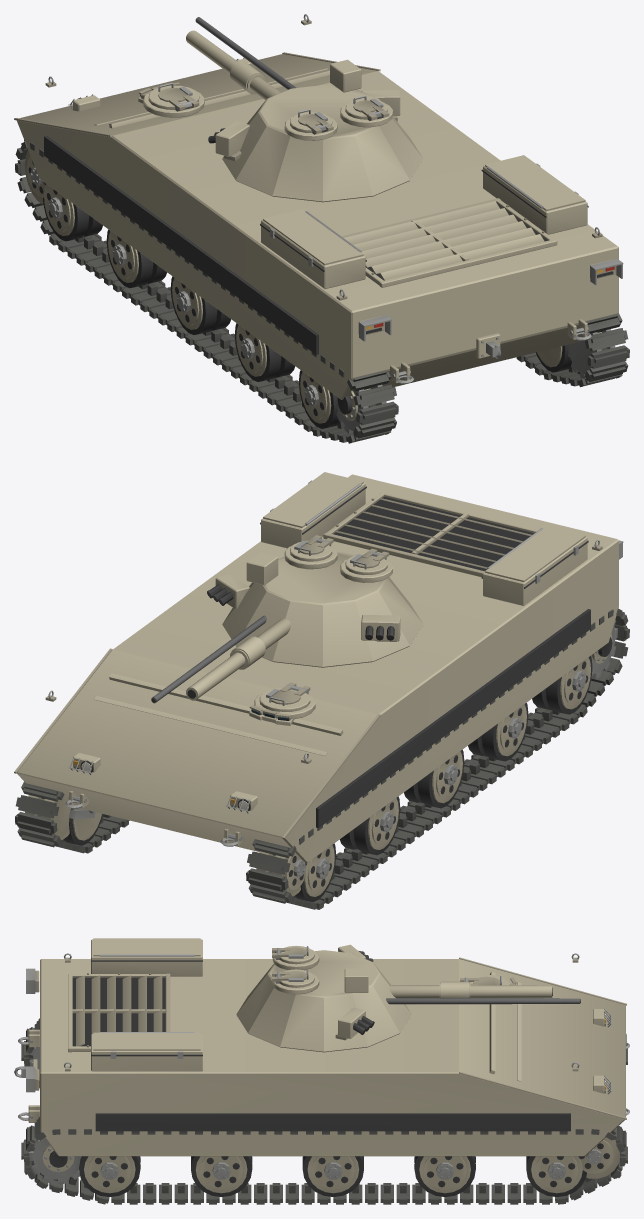
The model's file is rus_ifv_bmd4.glb.
3 renders of one model, top to bottom at view 1: azimuth 30°, elevation 25°; view 2: azimuth 150°, elevation 25°; view 3: azimuth 270°, elevation 25°, orthographic. The views are drawn at different scales.
Parts seen in each view (by area): view 1: body, turret, barrel; view 2: body, turret, barrel; view 3: body, turret, barrel.
Part boxes in pixels (bbox=[...]): body: bbox=[14, 14, 629, 443]; turret: bbox=[208, 59, 423, 202]; barrel: bbox=[186, 17, 296, 100]; body: bbox=[14, 472, 629, 909]; turret: bbox=[207, 535, 423, 667]; barrel: bbox=[151, 615, 290, 703]; body: bbox=[14, 938, 629, 1204]; turret: bbox=[236, 944, 411, 1052]; barrel: bbox=[386, 981, 580, 1004].
Bounding box in the file's own units: 2.97 × 2.28 × 6.61.
